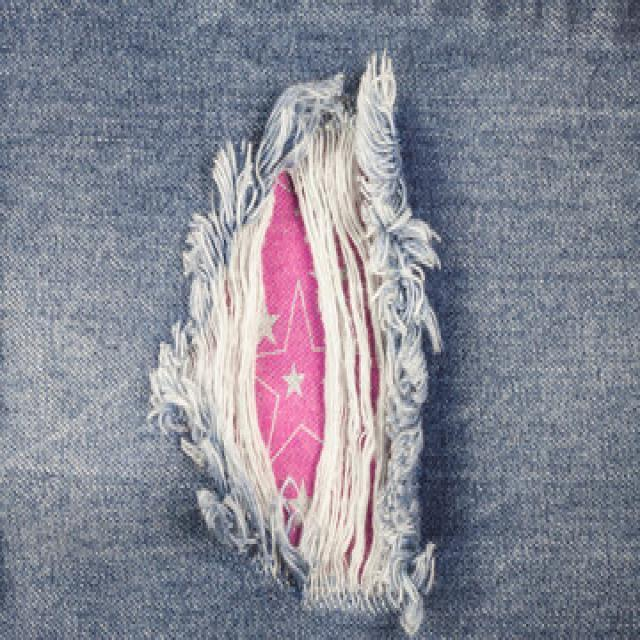Hole: (151, 52, 441, 635)
